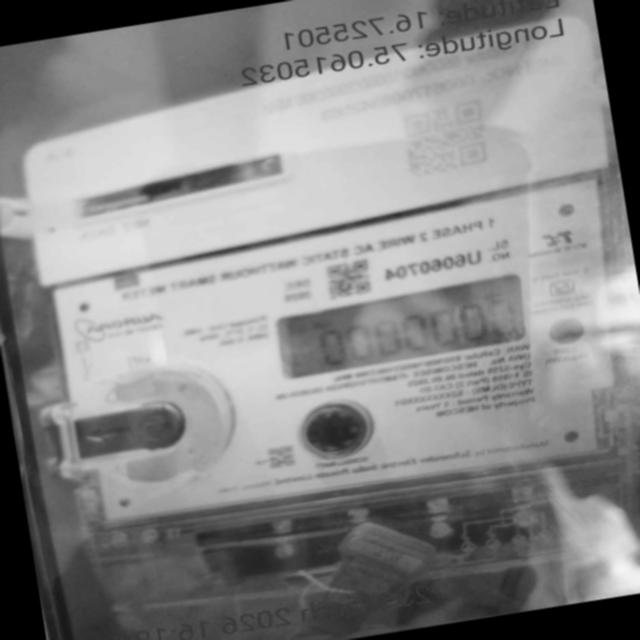meter: (7, 13, 640, 532)
